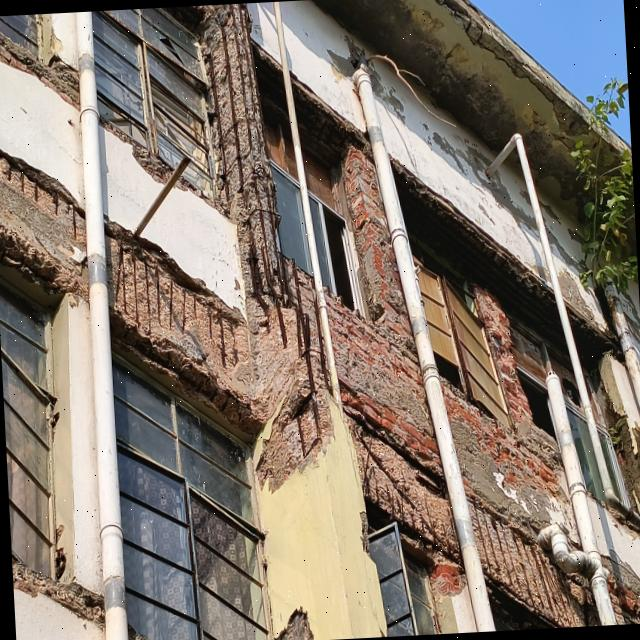Paint Peeling: (423, 131, 535, 229), (547, 229, 607, 335), (367, 65, 406, 122), (327, 36, 366, 78)
Spalling: (105, 3, 331, 492), (391, 158, 565, 349), (345, 409, 466, 591), (435, 0, 591, 137), (470, 501, 583, 628), (0, 149, 88, 301), (13, 559, 115, 636), (292, 74, 374, 169), (0, 28, 82, 107), (598, 383, 640, 513), (253, 42, 289, 136), (569, 308, 619, 351), (132, 146, 172, 184)
exposed brickwork: (326, 148, 444, 484), (444, 283, 578, 541), (603, 556, 640, 625)
